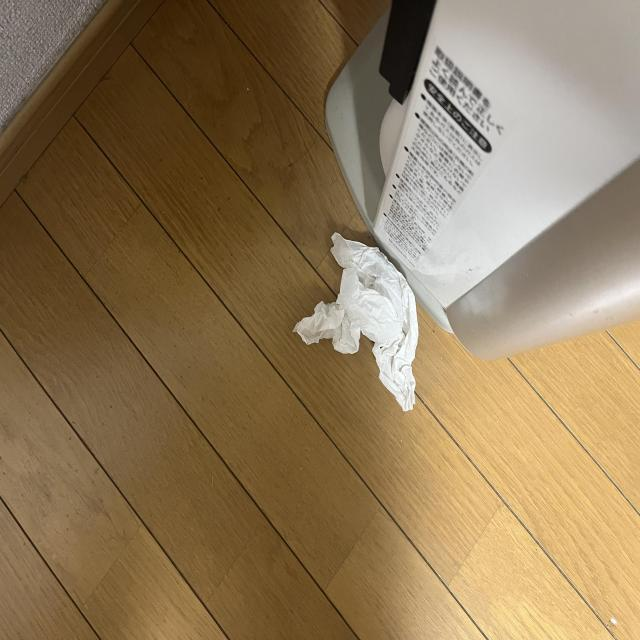Paper: (294, 214, 448, 414)
